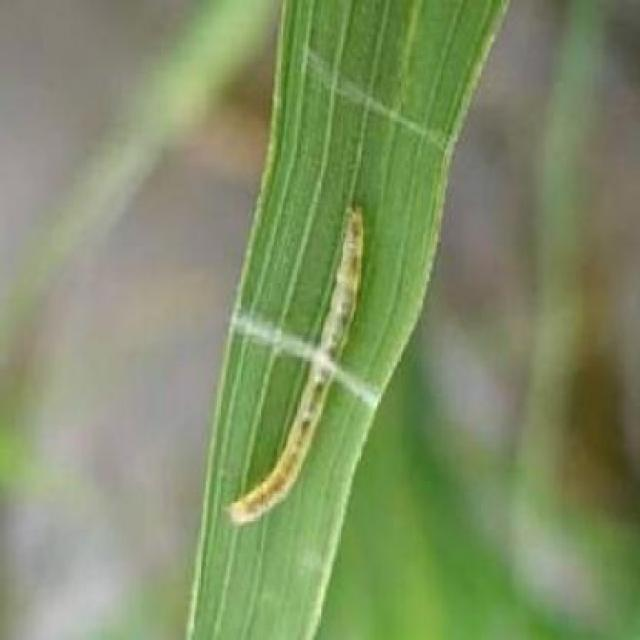leaf-folder: (220, 171, 380, 549)
